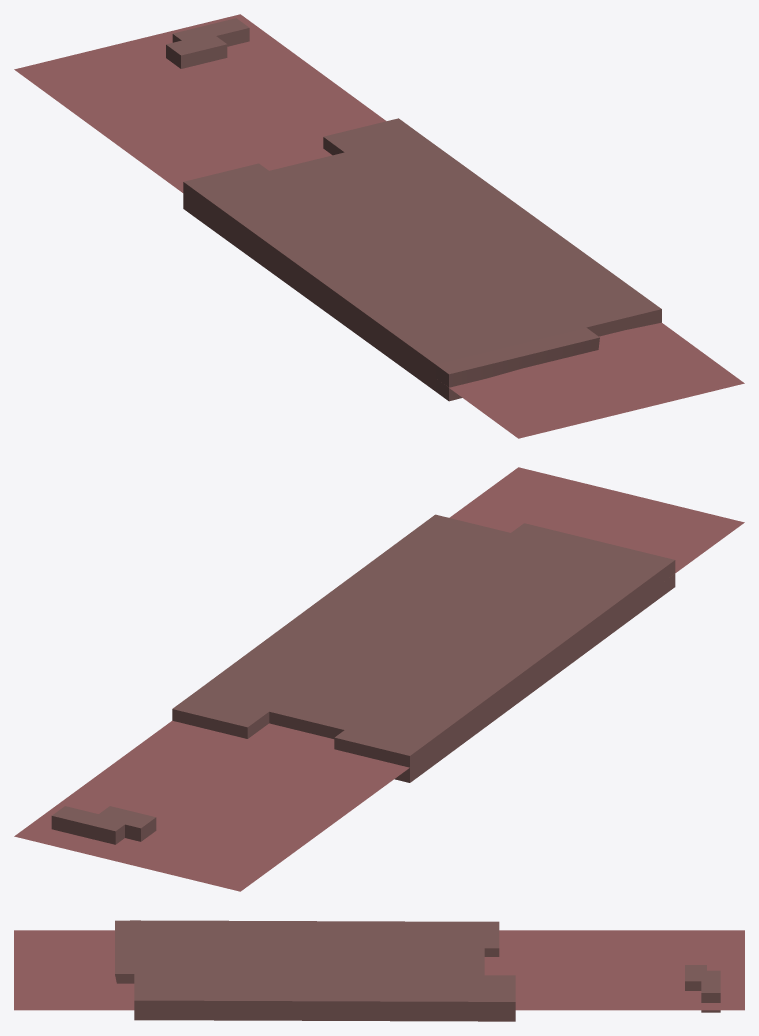
Rendered from Tile_Magma_03.fbx.
3 views of the same model, one above another, from view 1: azimuth 30°, elevation 25°; view 2: azimuth 150°, elevation 25°; view 3: azimuth 270°, elevation 25° (orthographic). The views are drawn at different scales.
Parts seen in each view (by area): view 1: pCube31, pPlane6, polySurface5; view 2: pCube31, pPlane6, polySurface5; view 3: pCube31, pPlane6, polySurface5.
Boxes of the visible parts, x1,y1,x2,y2 form: pCube31: (183, 118, 661, 401); pPlane6: (14, 14, 744, 438); polySurface5: (166, 18, 249, 68); pCube31: (172, 514, 675, 782); pPlane6: (14, 467, 744, 891); polySurface5: (51, 806, 156, 844); pCube31: (115, 920, 515, 1021); pPlane6: (14, 930, 744, 1010); polySurface5: (685, 965, 720, 1012).
Bounding box in the file's own units: 35 × 4.29 × 135.
